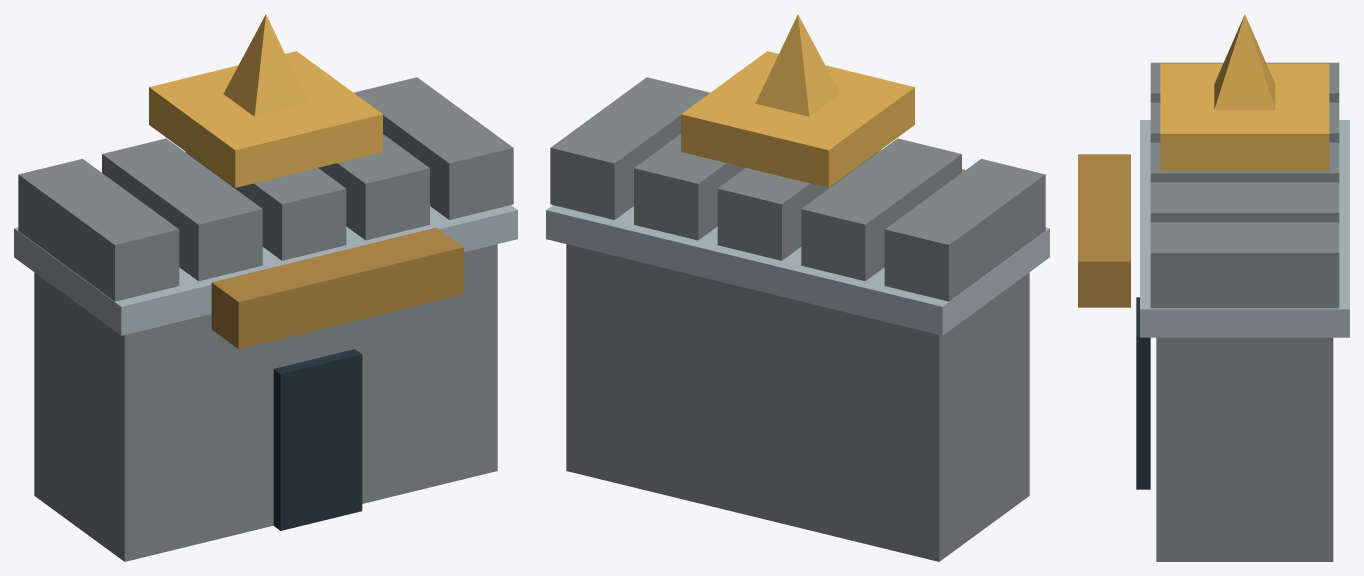
Rendered from defense.obj.
3 views of the same model, side by side, from view 1: azimuth 30°, elevation 25°; view 2: azimuth 150°, elevation 25°; view 3: azimuth 270°, elevation 25° (orthographic). The views are drawn at different scales.
Visible parts, largest first — view 1: defense; view 2: defense; view 3: defense.
Boxes of the visible parts, x1,y1,x2,y2 form: defense: [14, 14, 517, 561]; defense: [546, 14, 1049, 561]; defense: [1078, 14, 1349, 561].
Bounding box in the file's own units: 2.21 × 2.49 × 1.34.
